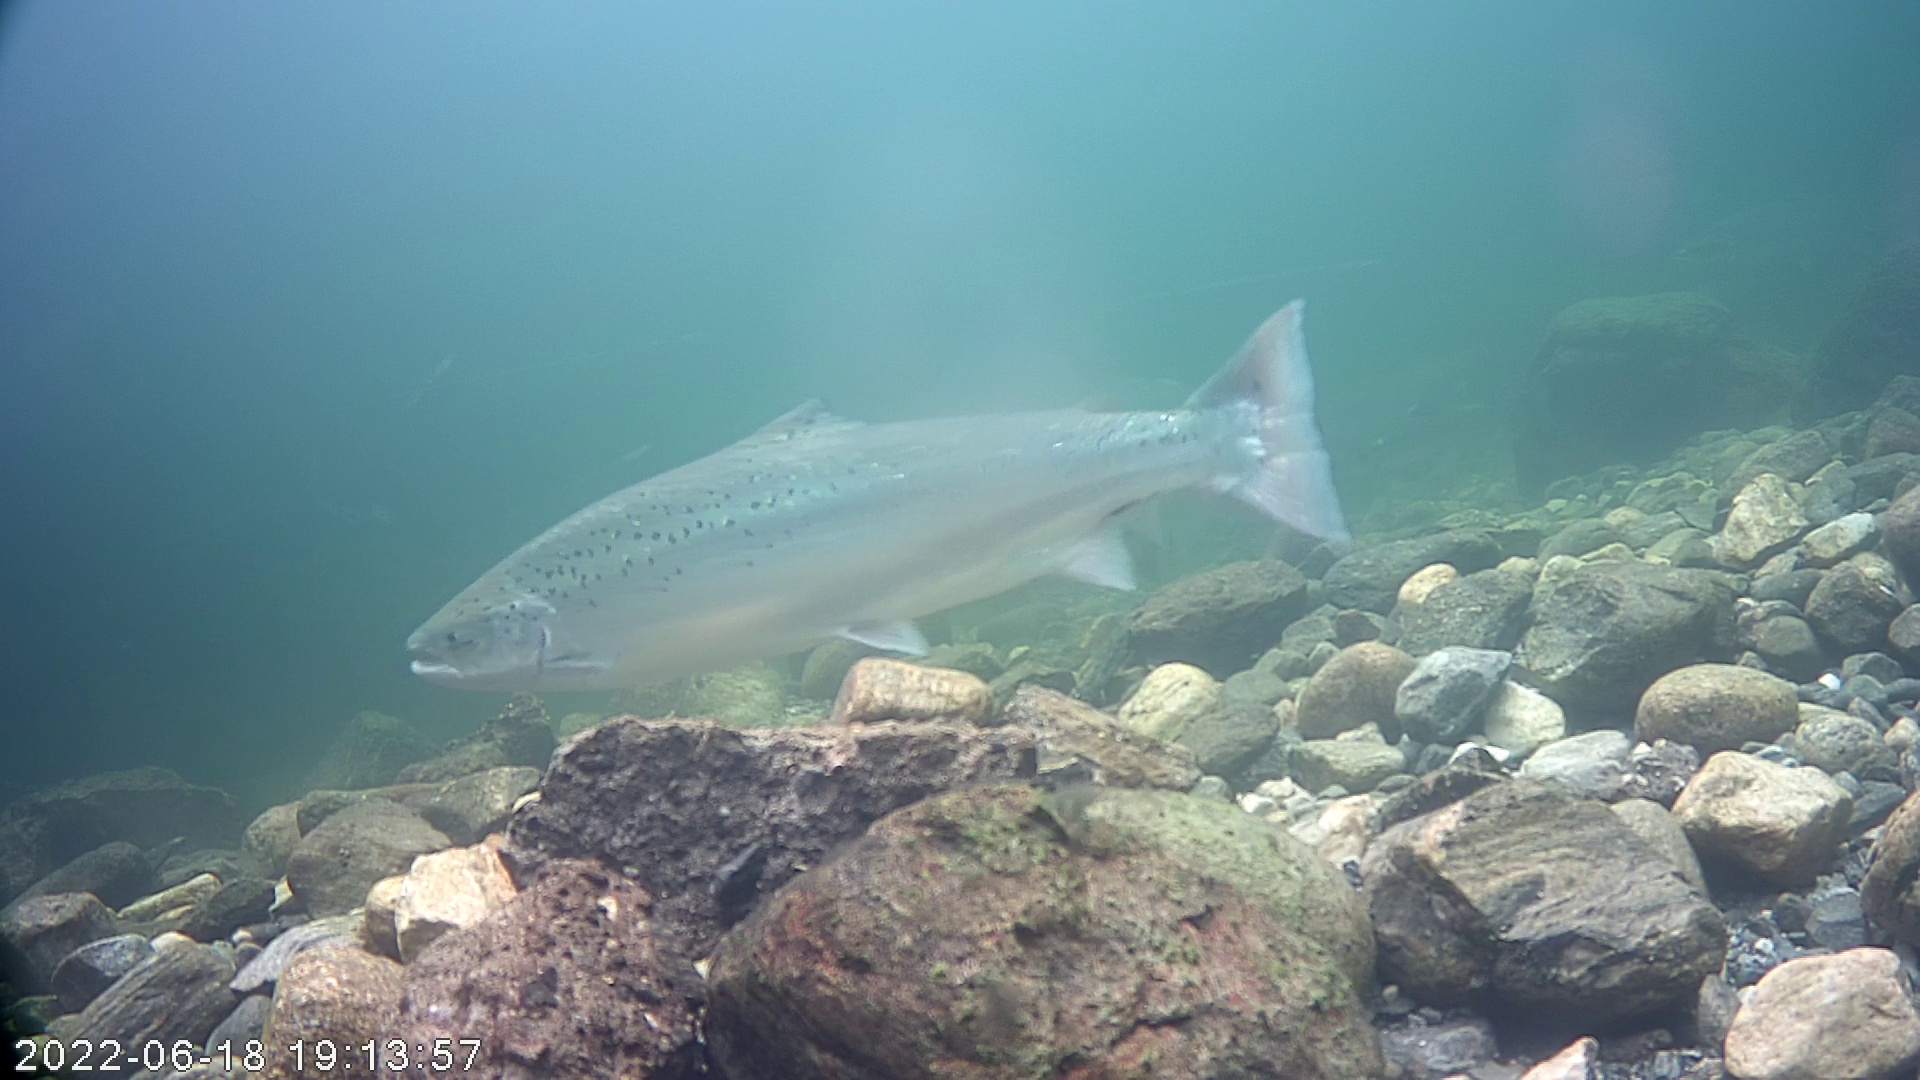salmon: (402, 295, 1352, 695)
